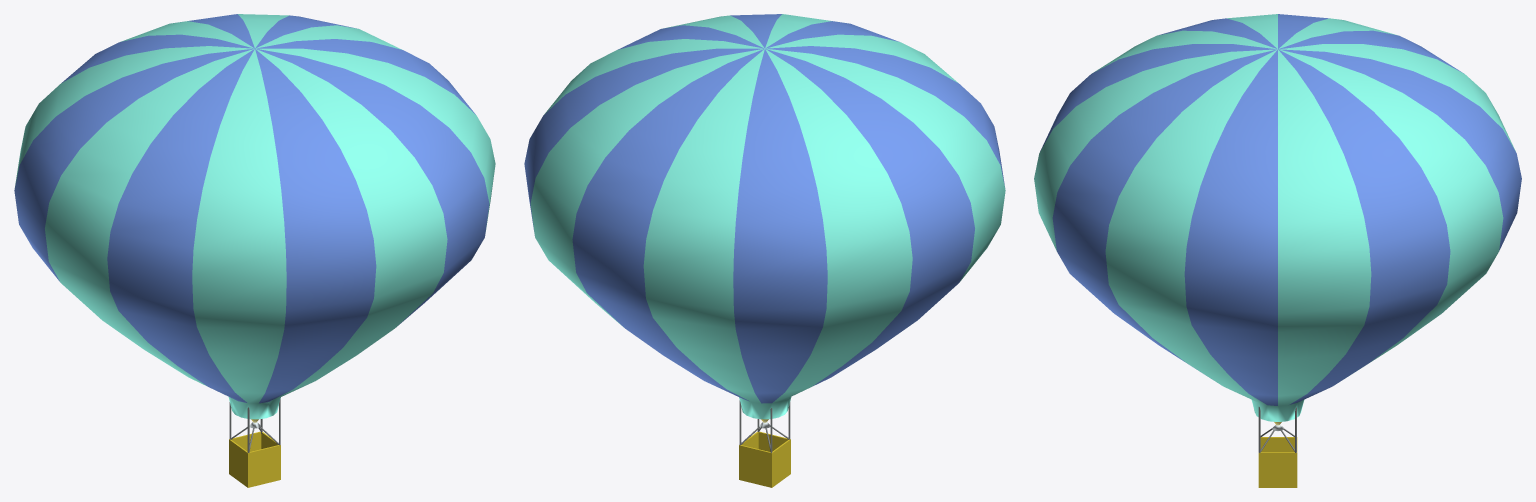
File: balloon_balloon3.glb
3 renders of one model, left to right at view 1: azimuth 30°, elevation 25°; view 2: azimuth 150°, elevation 25°; view 3: azimuth 270°, elevation 25°, orthographic.
Visible parts, largest first — view 1: airframe; view 2: airframe; view 3: airframe.
Boxes of the visible parts, x1=… form: airframe: x1=14, y1=14, x2=495, y2=487; airframe: x1=524, y1=14, x2=1005, y2=487; airframe: x1=1034, y1=14, x2=1521, y2=487.
Bounding box in the file's own units: 58.35 × 56.81 × 58.35.
